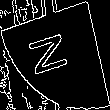N_E: (30, 29, 80, 81)
